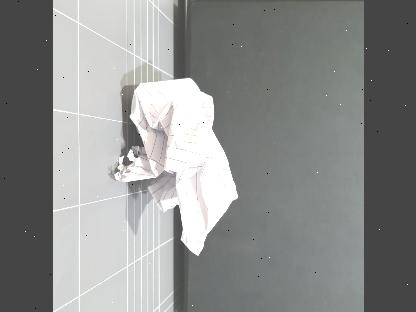Others: (118, 74, 235, 256)
